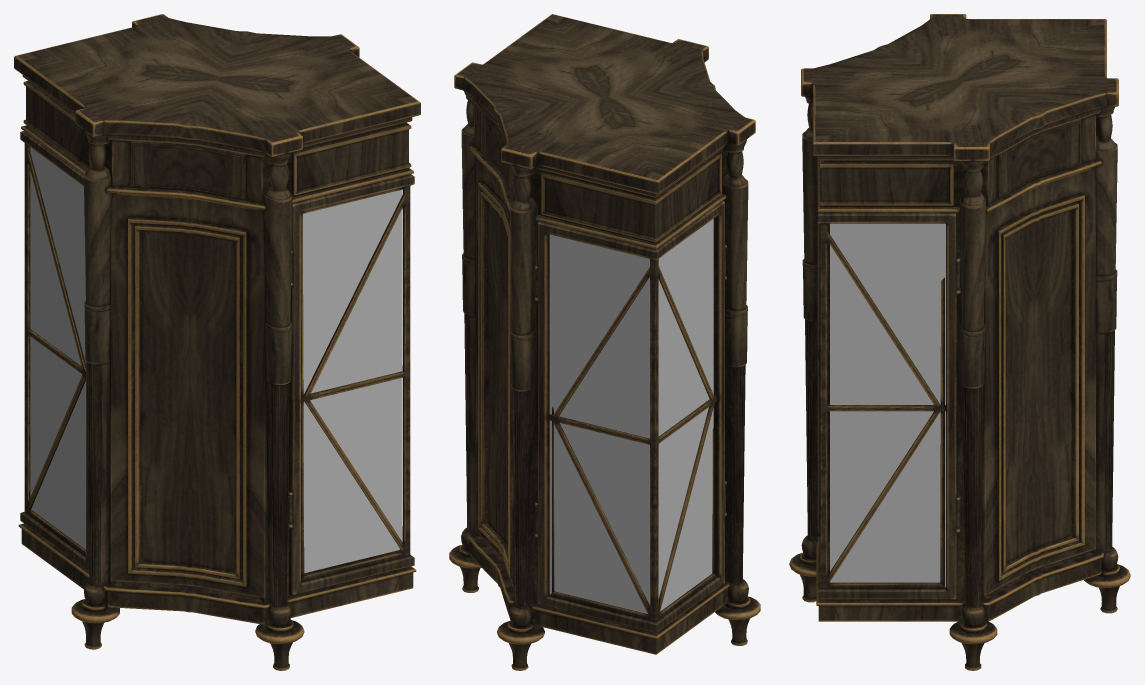
Rendered from SM_Buffah1_Angle.fbx.
3 renders of one model, left to right at view 1: azimuth 30°, elevation 25°; view 2: azimuth 150°, elevation 25°; view 3: azimuth 270°, elevation 25°, orthographic. The views are drawn at different scales.
Visible parts, largest first — view 1: SM_Buffah1_Angle_LOD0; view 2: SM_Buffah1_Angle_LOD0; view 3: SM_Buffah1_Angle_LOD0.
Part boxes in pixels (<box>): SM_Buffah1_Angle_LOD0: <box>14,14,420,670</box>; SM_Buffah1_Angle_LOD0: <box>449,14,760,670</box>; SM_Buffah1_Angle_LOD0: <box>789,14,1130,670</box>.
Bounding box in the file's own units: 61.57 × 61.57 × 104.
Materials: 2 (1 with a texture image).
